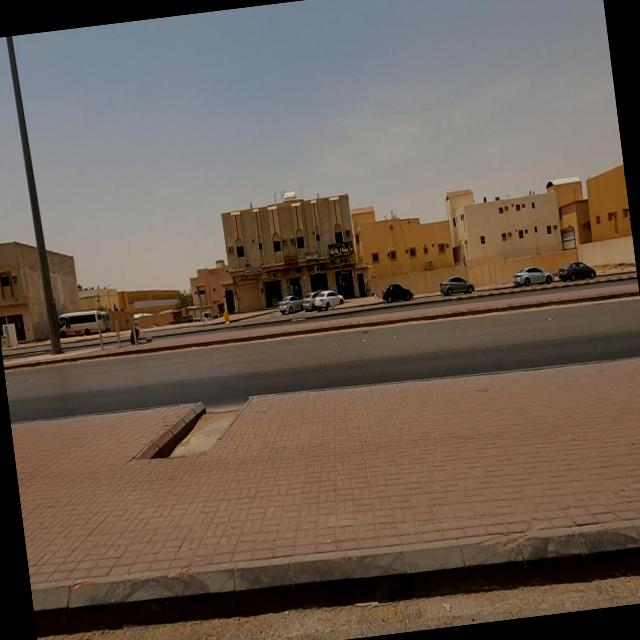debris: (267, 215, 322, 308), (216, 238, 278, 298), (298, 229, 332, 292)
